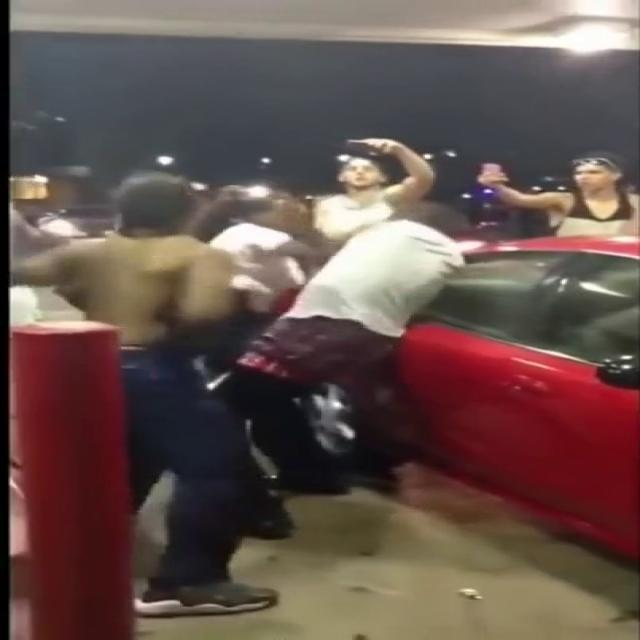non_violence: (480, 144, 640, 238)
violence: (58, 184, 481, 511)
